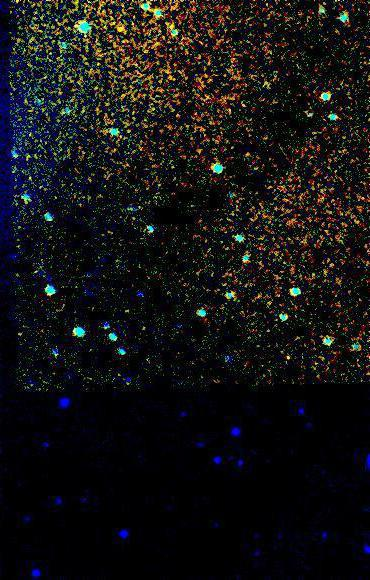star: (106, 13, 136, 43)
